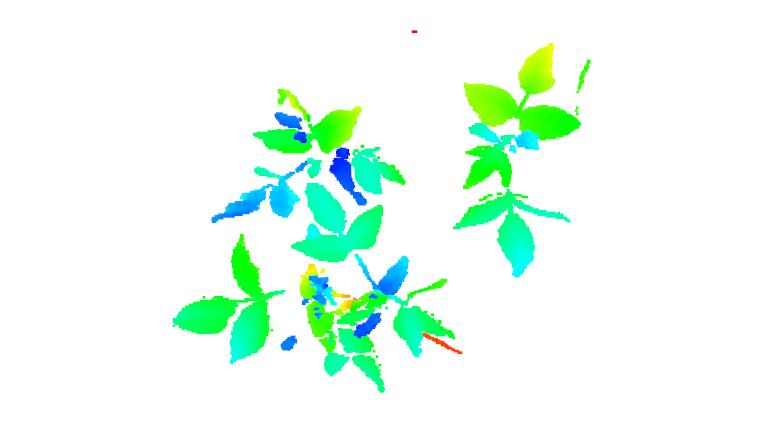mungbean: (290, 178, 461, 391), (448, 37, 584, 279), (207, 85, 406, 224), (170, 225, 340, 371)
